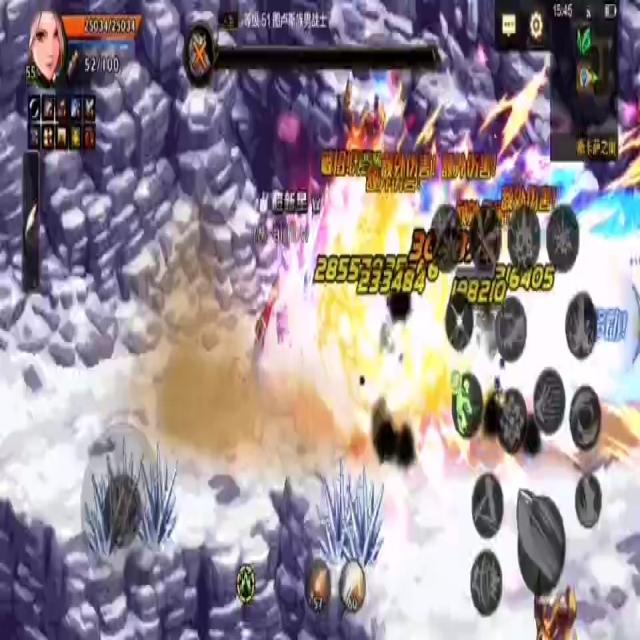player: (250, 250, 308, 455)
